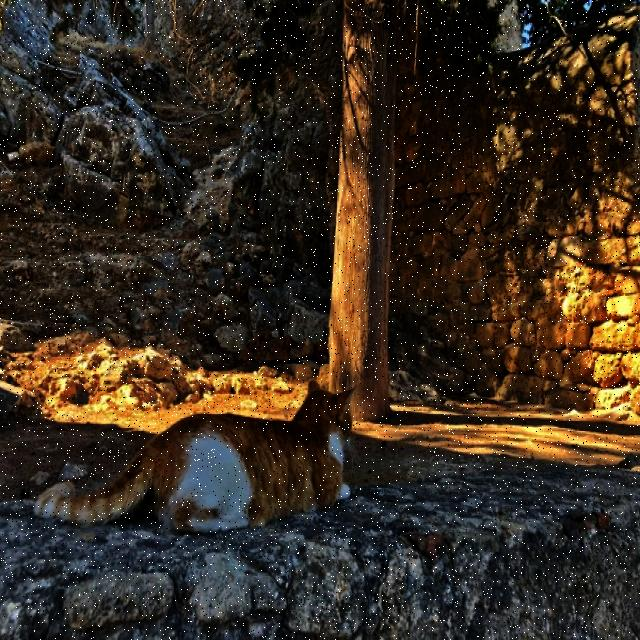cat: (35, 382, 352, 532)
